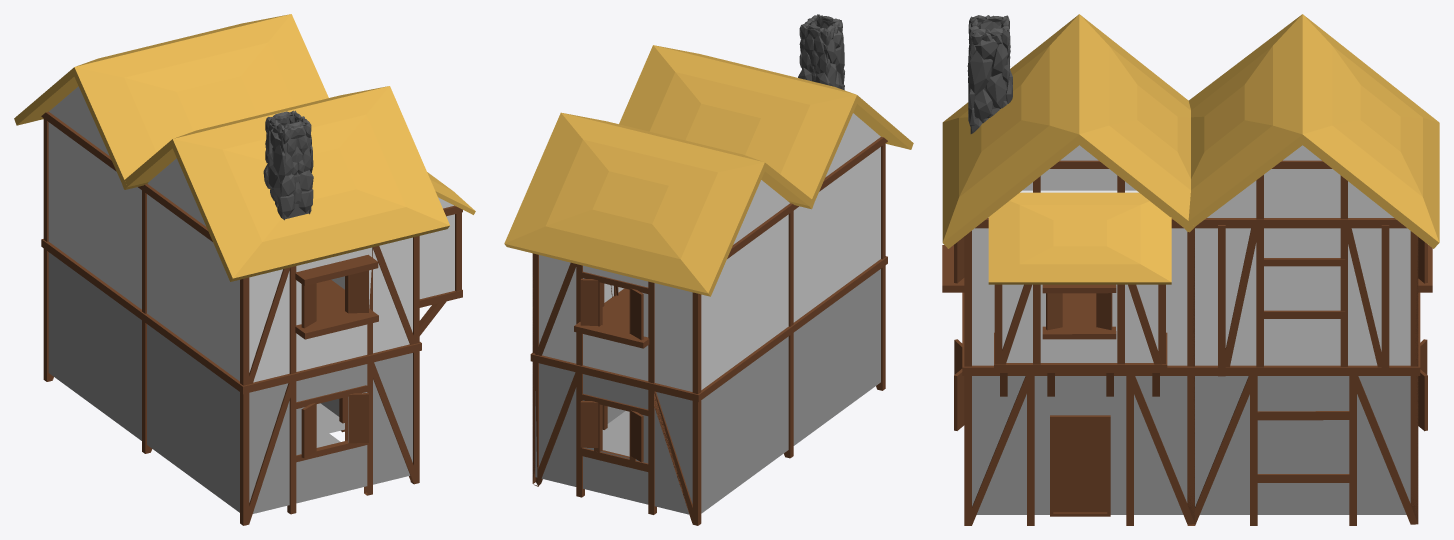
Rendered from building_small_double.fbx.
3 views of the same model, side by side, from view 1: azimuth 30°, elevation 25°; view 2: azimuth 150°, elevation 25°; view 3: azimuth 270°, elevation 25° (orthographic). The views are drawn at different scales.
Visible parts, largest first — view 1: Plane.008, Cube.023, Cube.029, Cube.030, Plane.009, Cube.033, Cube.032, Cube.047, Cube.035; view 2: Plane.009, Cube.032, Cube.033, Plane.008, Cube.035, Cube.029, Cube.023, Cube.030, Cube.047; view 3: Plane.008, Plane.009, Cube.030, Cube.033, Cube.032, Cube.035, Cube.023, Cube.029, Cube.047.
Boxes of the visible parts, x1,y1,x2,y2 form: Plane.008: (122,86,475,281); Cube.023: (147,324,412,513); Cube.029: (147,158,454,382); Cube.030: (139,184,462,525); Plane.009: (14,14,328,189); Cube.033: (48,86,141,309); Cube.032: (48,252,141,440); Cube.047: (263,110,313,220); Cube.035: (41,111,143,381); Plane.009: (504,112,814,296); Cube.032: (535,336,788,514); Cube.033: (539,180,789,391); Plane.008: (619,45,913,209); Cube.035: (530,204,795,525); Cube.029: (793,113,880,322); Cube.023: (793,269,880,445); Cube.030: (785,137,887,458); Cube.047: (798,14,844,90); Plane.008: (942,14,1195,284); Plane.009: (1185,14,1439,248); Cube.030: (942,160,1196,525); Cube.033: (1195,145,1410,365); Cube.032: (1195,376,1410,514); Cube.035: (1185,160,1432,525); Cube.023: (972,376,1187,514); Cube.029: (972,145,1187,365); Cube.047: (967,15,1012,133).
Size of the model in its own units: 1139 by 1594 by 1637.
